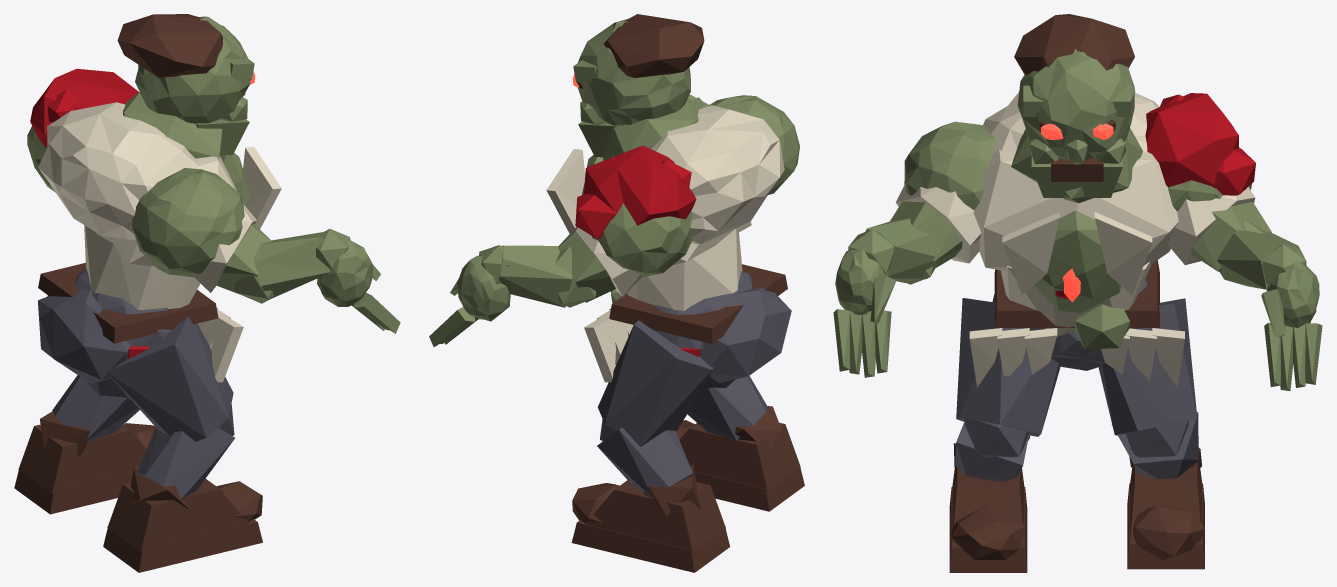
Rendered from inf.alpha.lod1.glb.
3 renders of one model, left to right at view 1: azimuth 30°, elevation 25°; view 2: azimuth 150°, elevation 25°; view 3: azimuth 270°, elevation 25°, orthographic. The views are drawn at different scales.
Parts seen in each view (by area): view 1: torso, head, armR, footR, hip, footL, legR, shinR, armL, handR, foreArmR, shinL; view 2: torso, armL, head, footL, hip, legL, footR, foreArmL, shinL, handL, shinR, armR; view 3: torso, head, armL, armR, footL, footR, handR, legR, handL, legL, hip, shinR (+3 smaller).
Part boxes in pixels (box(x1,y1,x2,y2)): torso: box(38, 92, 281, 382); head: box(117, 14, 255, 155); armR: box(132, 168, 271, 294); footR: box(103, 467, 262, 572); hip: box(38, 263, 218, 383); footL: box(14, 411, 155, 514); legR: box(108, 316, 233, 441); shinR: box(137, 404, 234, 498); armL: box(27, 68, 138, 192); handR: box(316, 228, 400, 333); foreArmR: box(234, 232, 329, 303); shinL: box(52, 375, 139, 443); torso: box(546, 98, 784, 382); armL: box(558, 145, 696, 302); head: box(572, 14, 704, 157); footL: box(571, 464, 729, 572); hip: box(609, 264, 791, 383); legL: box(597, 320, 713, 446); footR: box(676, 406, 804, 511); foreArmL: box(499, 245, 596, 307); shinL: box(597, 419, 692, 498); handL: box(429, 245, 510, 346); shinR: box(687, 375, 768, 441); armR: box(707, 95, 799, 194); torso: box(969, 92, 1184, 387); head: box(1014, 14, 1135, 197); armL: box(1145, 93, 1271, 271); armR: box(890, 121, 995, 267); footL: box(1127, 447, 1204, 569); footR: box(949, 443, 1027, 572); handR: box(833, 229, 895, 377); legR: box(956, 298, 1060, 436); handL: box(1261, 244, 1322, 390); legL: box(1098, 298, 1197, 435); hip: box(992, 260, 1159, 370); shinR: box(955, 419, 1030, 481).
Size of the model in its own units: 1.31 by 2.53 by 2.11.
